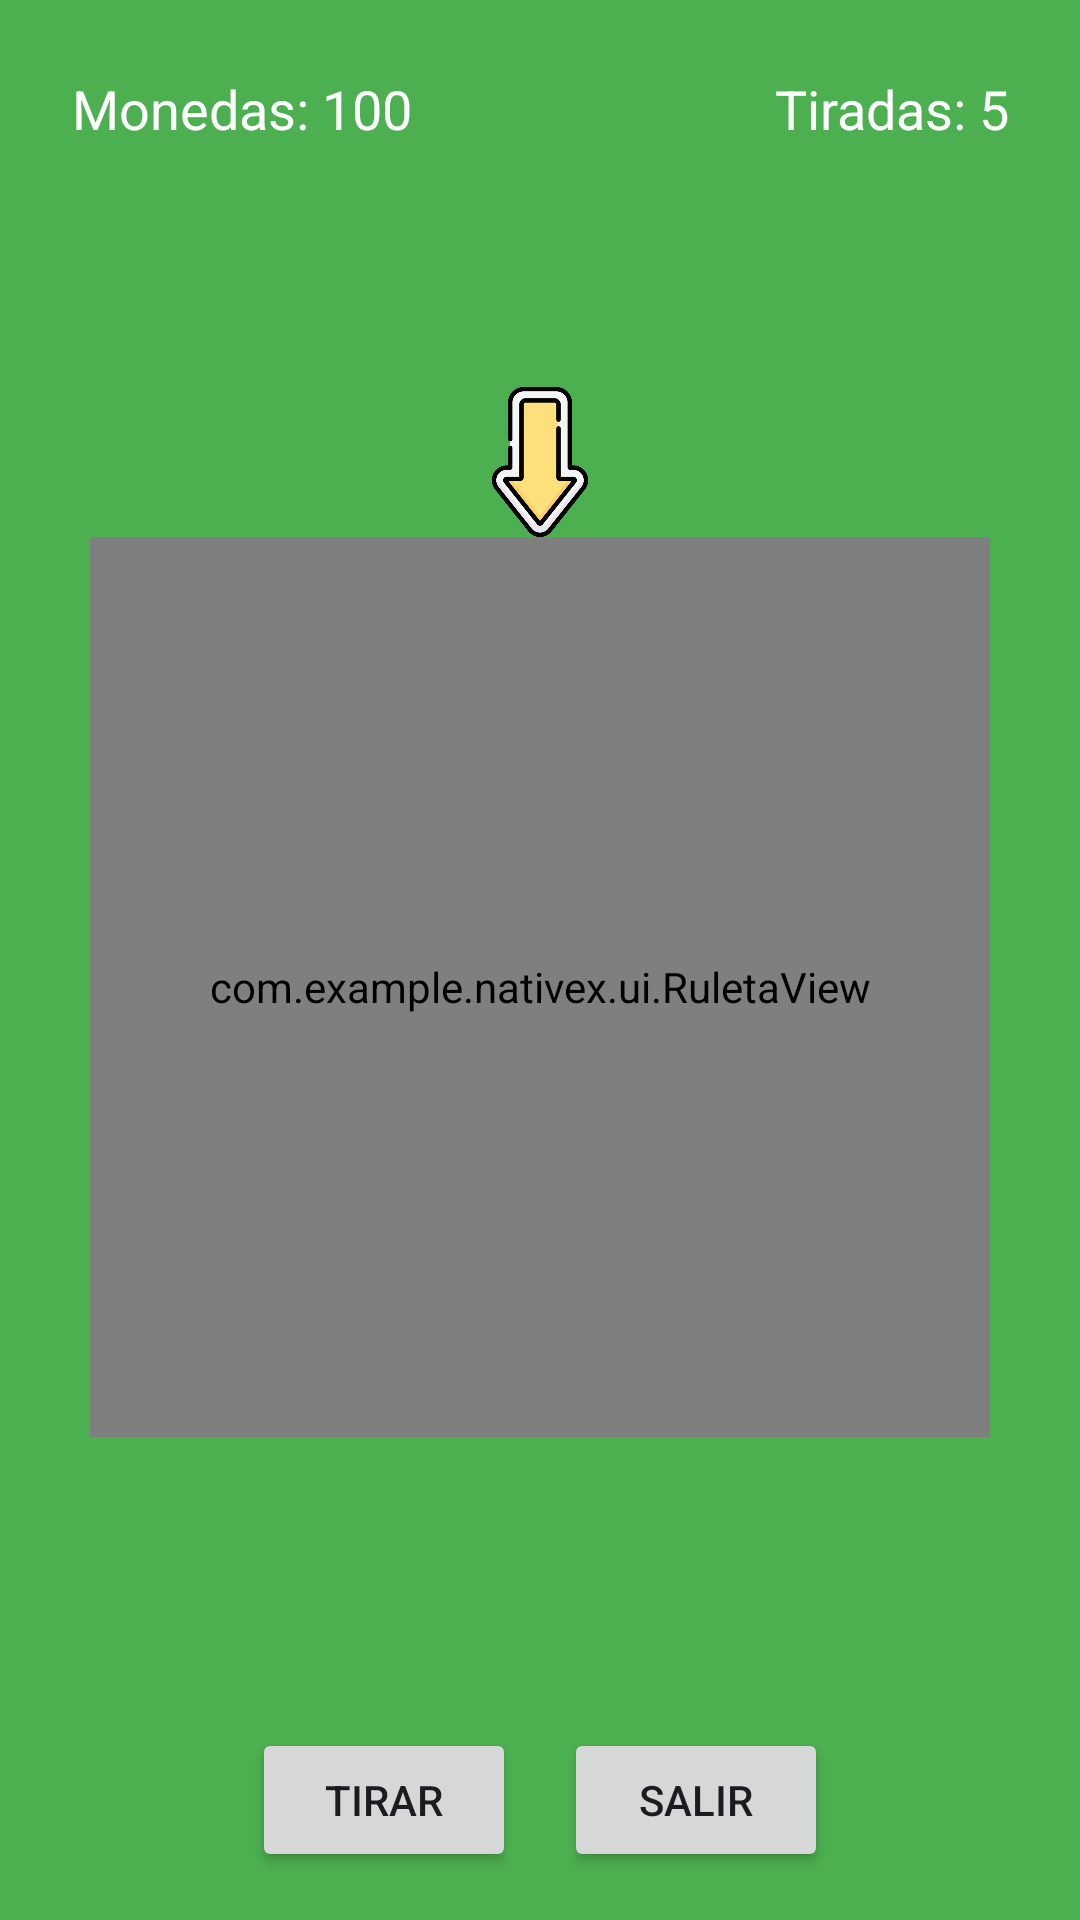

Icon click points for this 1080*1920 phone screenshot, format [x,y]:
flecha: [540,462]
